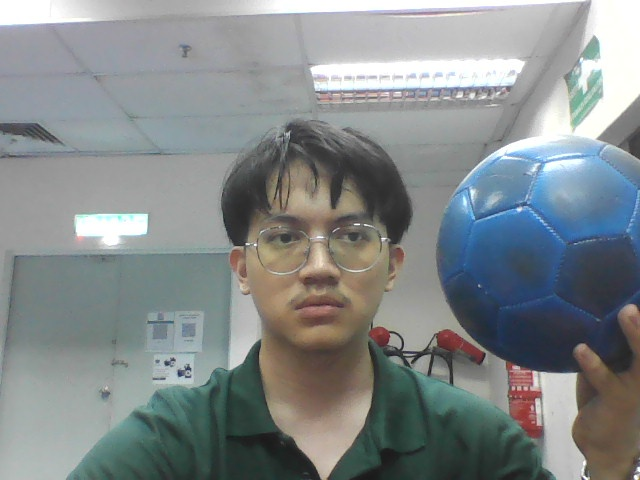Blue: (434, 134, 640, 374)
